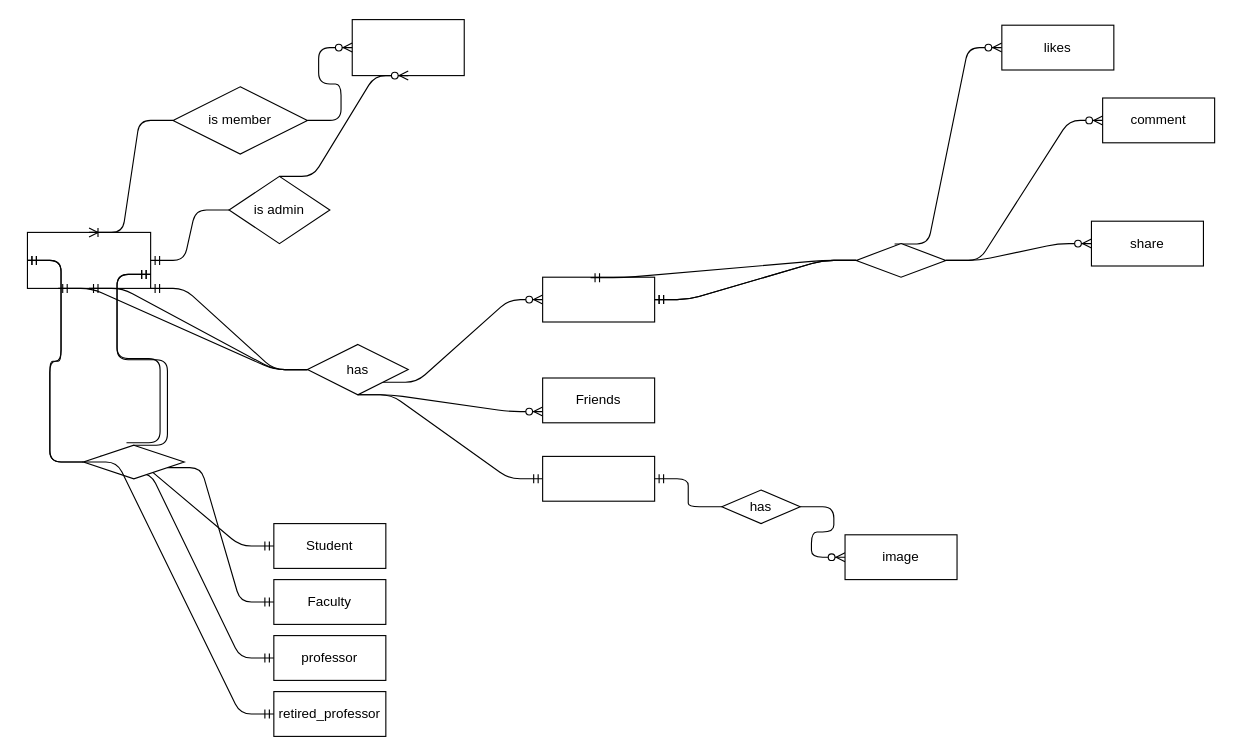
The diagram is 1234 pixels wide and 756 high, and some of its shapes have lost their labels. Here are the shapes that lost their labels. From the top down, the centre of each, then its label:
At (x=407, y=47): "Group".
At (x=88, y=259): "user".
At (x=900, y=259): "have".
At (x=598, y=299): "Post".
At (x=133, y=461): "is a".
At (x=598, y=478): "picture_gallery".
